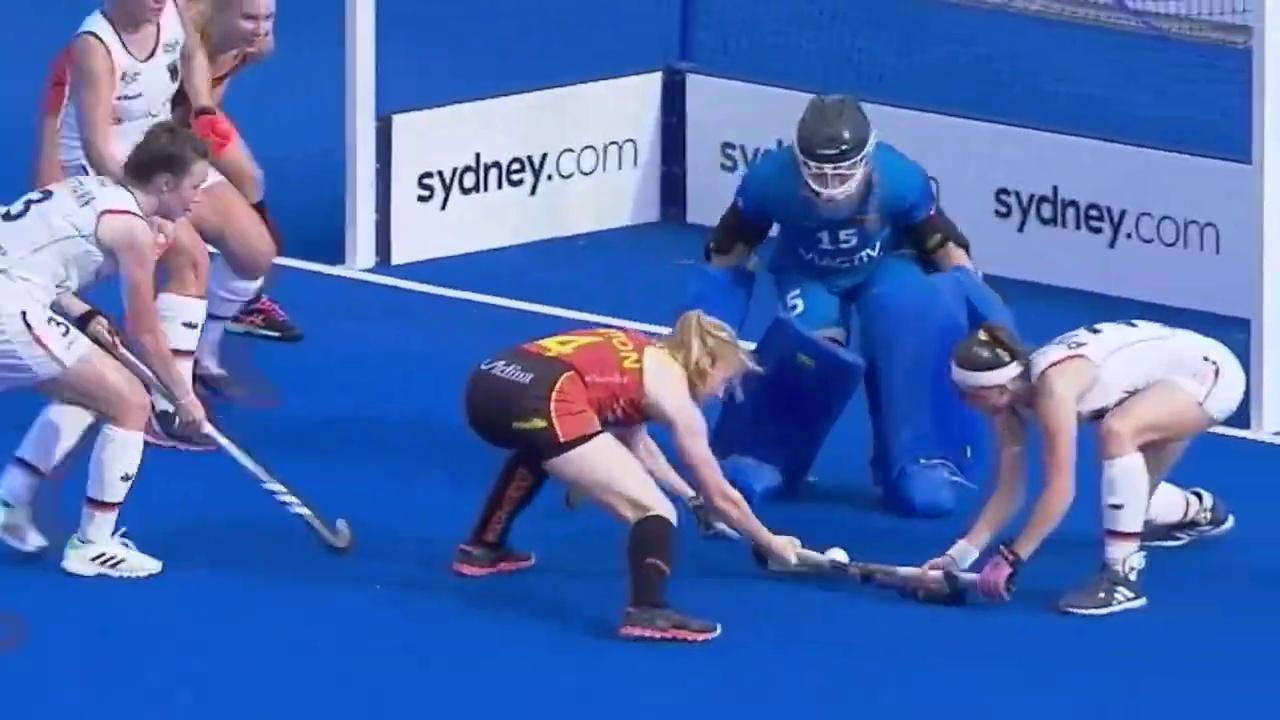ball: (807, 530, 861, 584)
